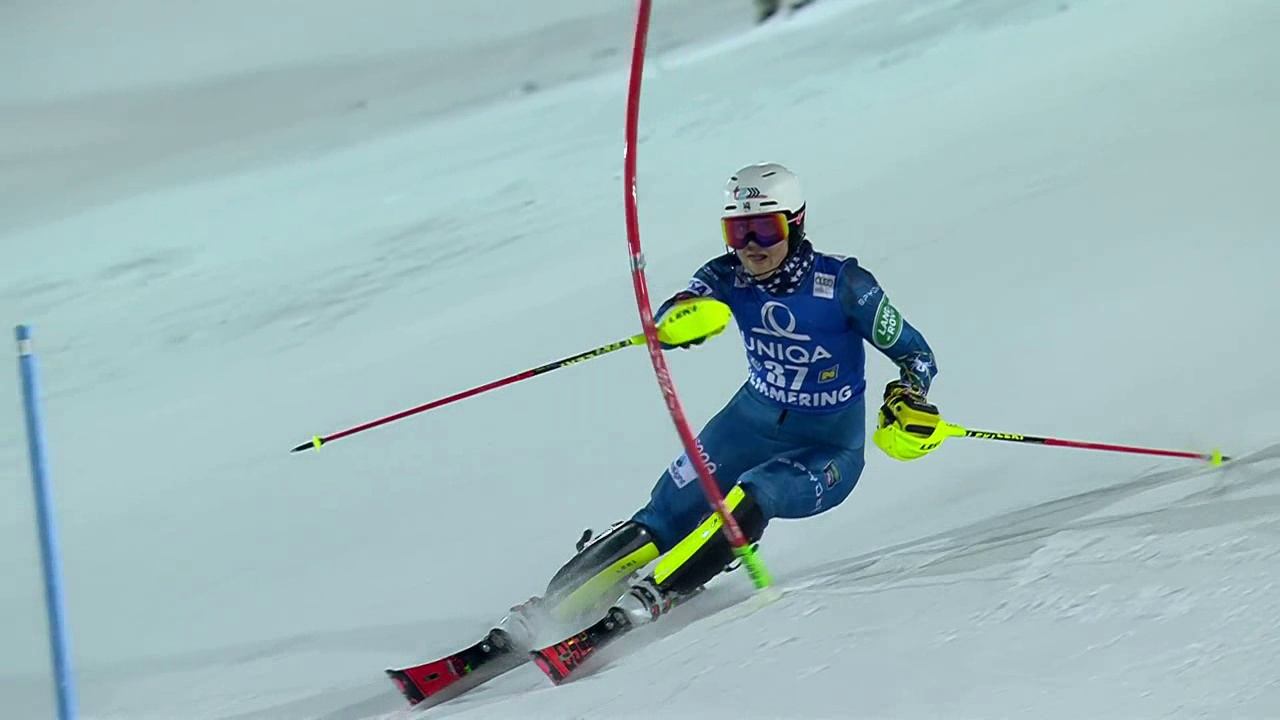uniqa: (742, 300, 831, 376)
